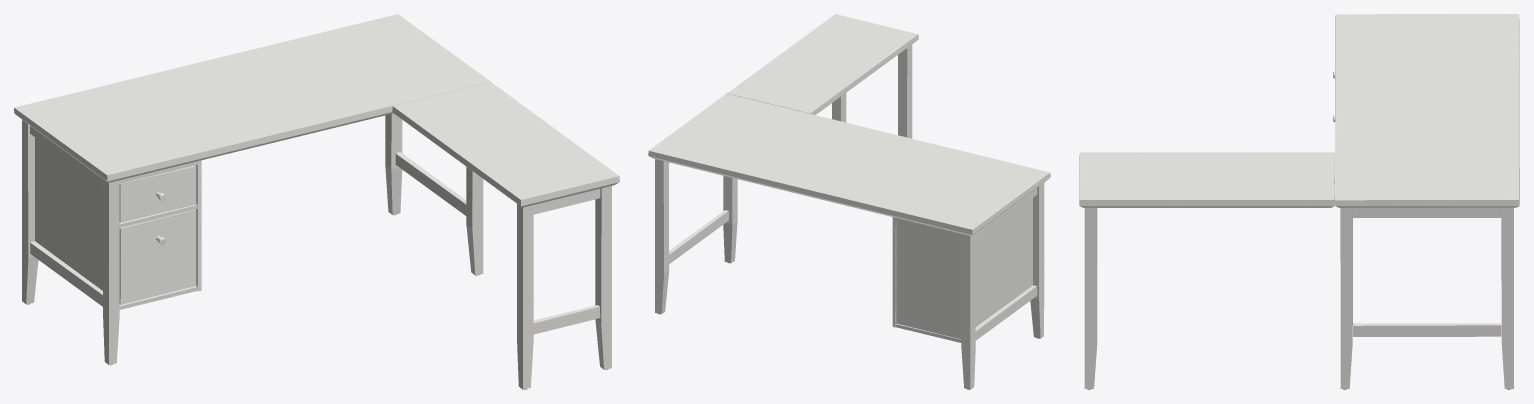
Rendered from gullaberg_biurko_narozne_60609679.glb.
The picture shows the model from 3 angles, left to right: view 1: azimuth 30°, elevation 25°; view 2: azimuth 150°, elevation 25°; view 3: azimuth 270°, elevation 25°; orthographic projection. The views are drawn at different scales.
Visible parts, largest first — view 1: gullaberg_biurko_narozne_60609679; view 2: gullaberg_biurko_narozne_60609679; view 3: gullaberg_biurko_narozne_60609679.
Boxes of the visible parts, bbox=[...] form: gullaberg_biurko_narozne_60609679: bbox=[14, 14, 619, 389]; gullaberg_biurko_narozne_60609679: bbox=[648, 14, 1050, 389]; gullaberg_biurko_narozne_60609679: bbox=[1079, 14, 1519, 389].
Bounding box in the file's own units: 1.55 × 0.75 × 1.55.
Materials: 1 (1 with a texture image).
